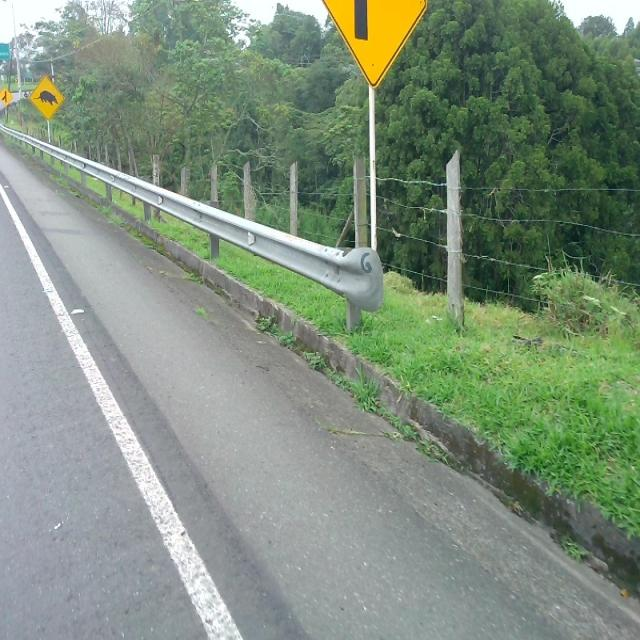DITCH: (1, 43, 638, 638), (18, 31, 637, 638), (1, 140, 638, 638)
